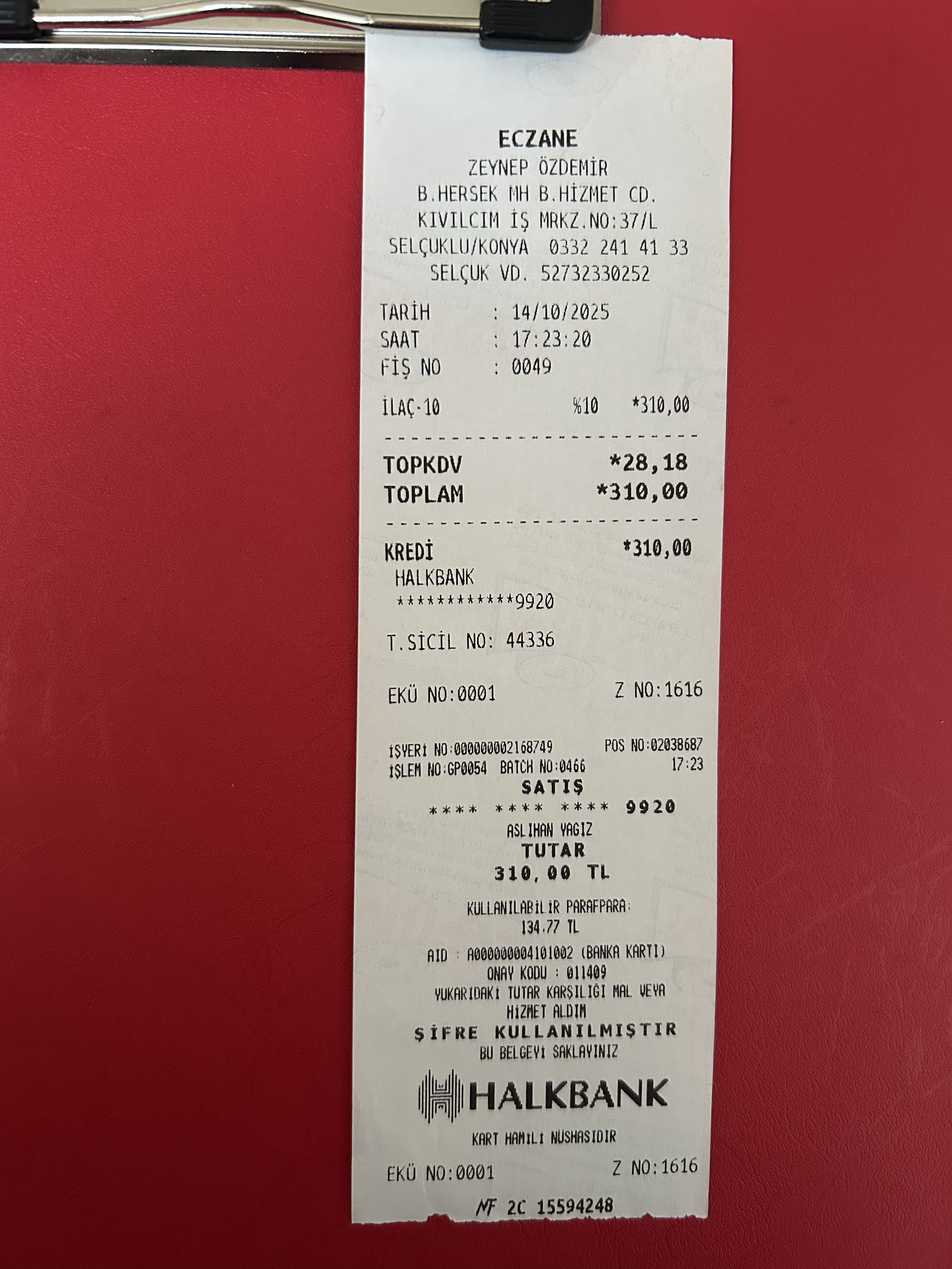date: (607, 476, 696, 507)
price: (507, 297, 616, 326)
workplace: (385, 122, 711, 262)
